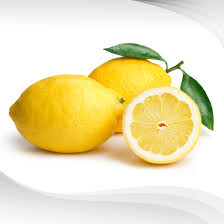Lemon: (9, 75, 118, 153), (82, 53, 181, 127)
